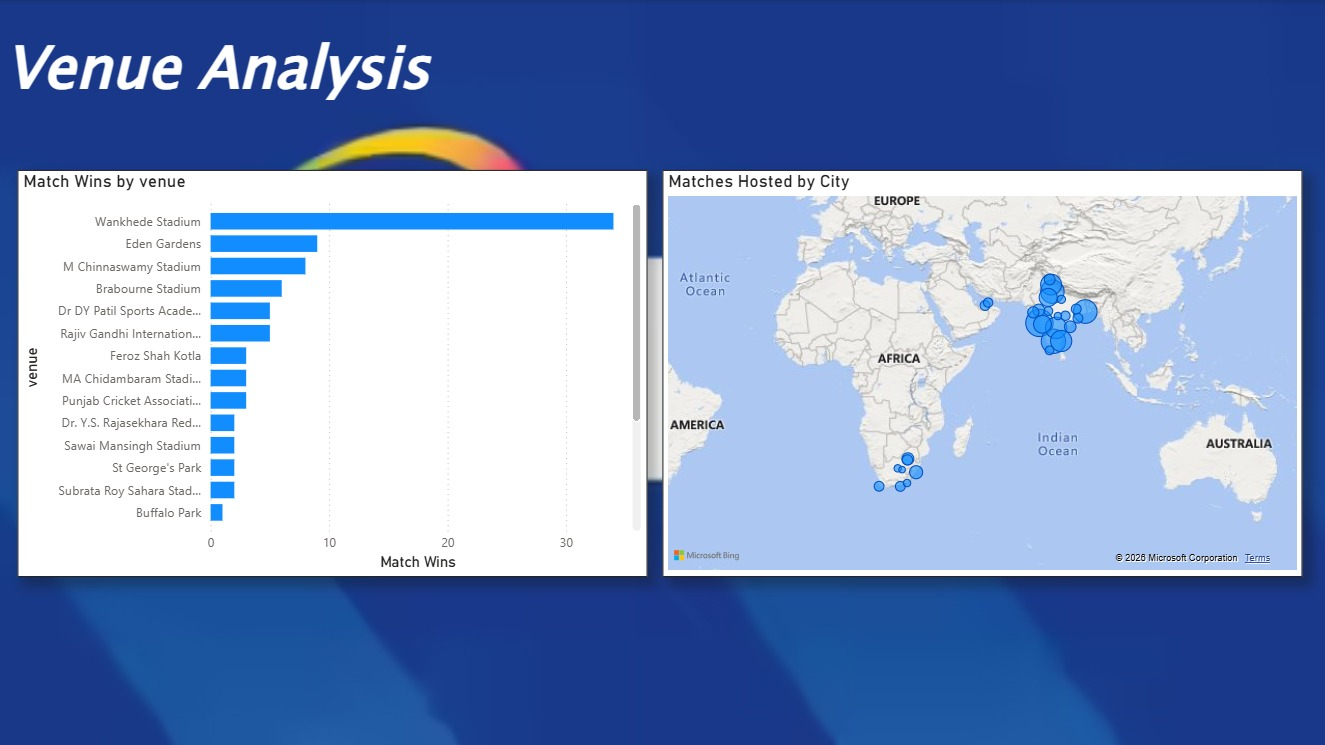

Layout of this report page (visuals, bound fields, positions):
{"tool":"powerbi","page":{"name":"Venue Analysis","canvas":[1280,720],"ordinal":4},"visuals":[{"type":"clusteredBarChart","fields":{"Category":["matches (1) - matches (1) csv.venue"],"Y":["Measures (3).Match Wins"]},"box":[17.2,163.7,608,392.6],"z":4000},{"type":"map","title":"Matches Hosted by City","fields":{"Category":["matches (1) - matches (1) csv.city"],"Size":["Measures (3).Match Wins"]},"box":[640,163.7,617.8,392.6],"z":5000},{"type":"textbox","box":[0,18.5,836.9,126.8],"z":5001}]}

Visuals, with their boxes in screenshot pixels (x1, y1, x2, y2), scaled from the page's 1280x720 canvas onto the 1325x745 screenshot:
clusteredBarChart - matches (1) - matches (1) csv.venue x Measures (3).Match Wins: [x1=18, y1=169, x2=647, y2=576]
"Matches Hosted by City" map: [x1=662, y1=169, x2=1302, y2=576]
textbox: [x1=0, y1=19, x2=866, y2=150]
